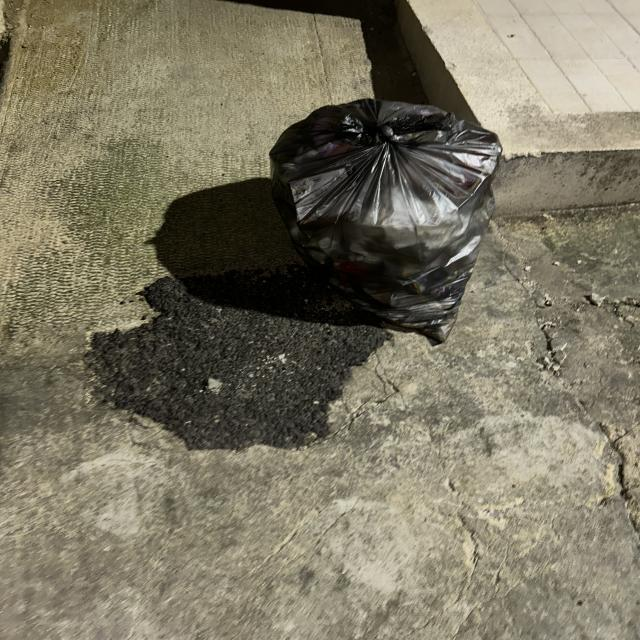Mixed Waste -Black Bag-: (274, 98, 506, 347)
